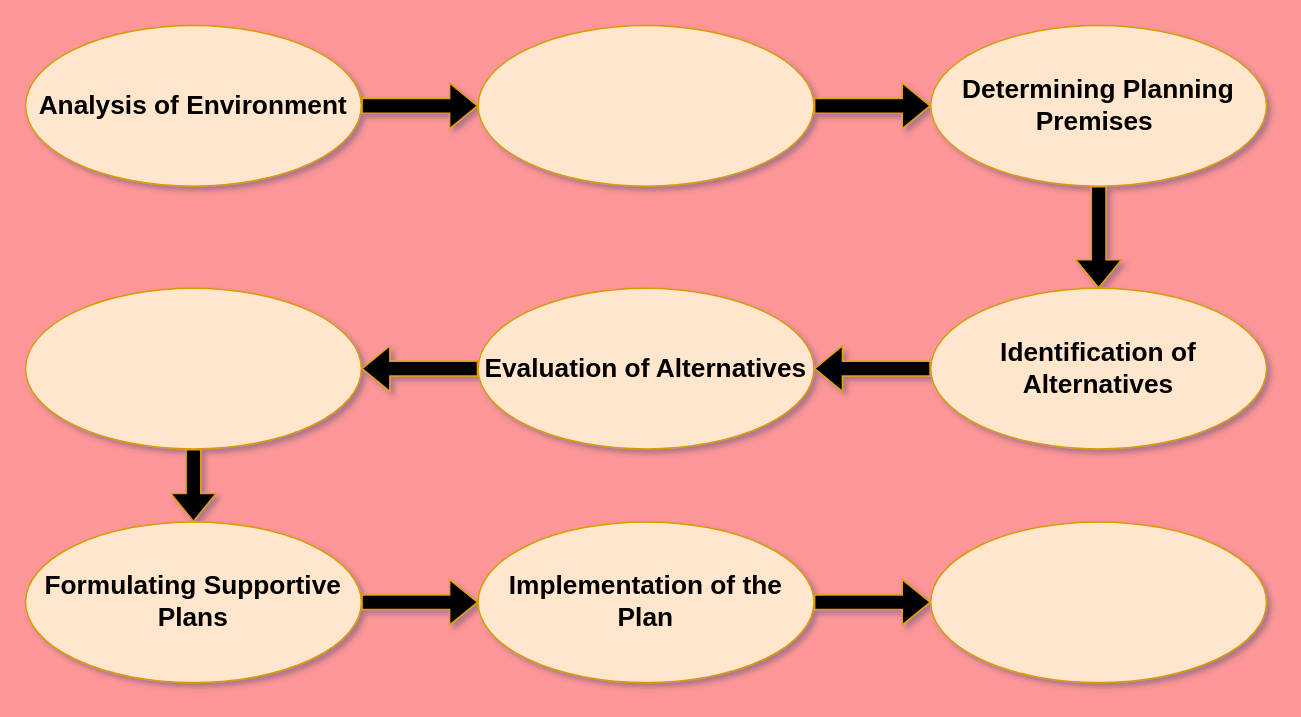
The diagram is 1301 pixels wide and 717 high, and some of its shapes have lost their labels. The box of each missing label's shape, as (x1, y1, x2, y2) in pixels:
Establishing Goals/Objectives: (477, 24, 814, 186)
Review of the Plan: (929, 520, 1267, 683)
Selecting the Best Alternative: (24, 287, 361, 449)
